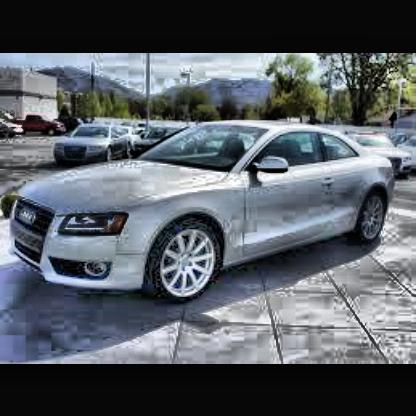Audi A5 Coupe 2012: (11, 118, 402, 305)
